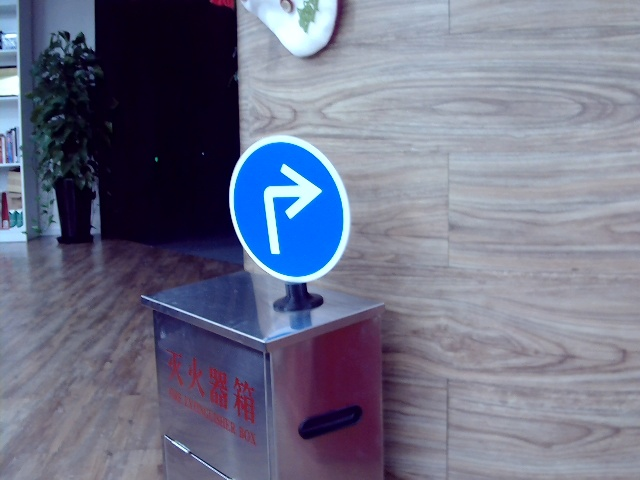turn_right: (258, 165, 324, 260)
